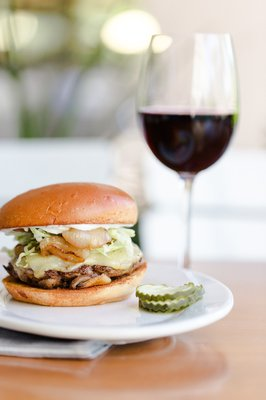soup: (0, 181, 148, 307)
